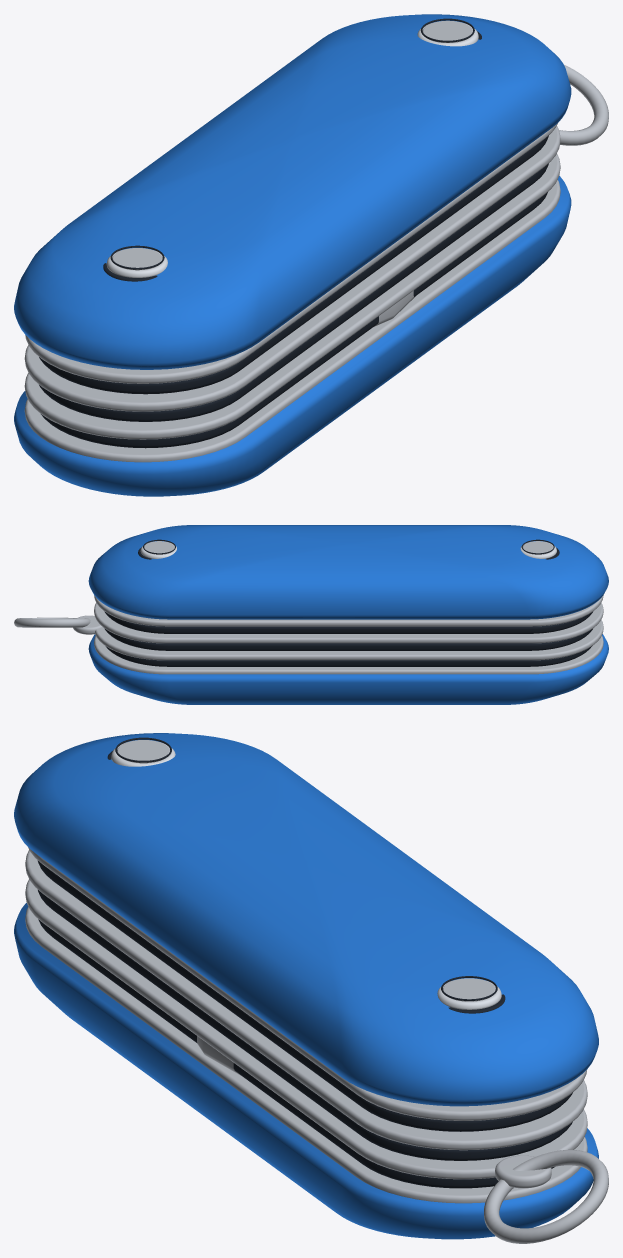
Rendered from product-swiss-army-knife.glb.
The picture shows the model from 3 angles, top to bottom: view 1: azimuth 30°, elevation 25°; view 2: azimuth 150°, elevation 25°; view 3: azimuth 270°, elevation 25°; orthographic projection. The views are drawn at different scales.
Parts seen in each view (by area): view 1: Sculpted front blue scale, Sculpted back blue scale, Steel liner.001, Steel liner.002, Steel liner, Steel liner.003, Tool channel.001, Tool channel.002, Tool channel, Split keyring, Satin pivot face, Satin pivot face.001; view 2: Sculpted front blue scale, Sculpted back blue scale, Steel liner.002, Steel liner.001, Steel liner, Steel liner.003, Tool channel.002, Tool channel.001, Tool channel, Split keyring, Satin pivot face, Satin pivot face.001 (+1 smaller); view 3: Sculpted front blue scale, Sculpted back blue scale, Steel liner.002, Steel liner.001, Steel liner, Steel liner.003, Tool channel.002, Tool channel.001, Split keyring, Tool channel, Keyring anchor, Satin pivot face (+1 smaller).
Part boxes in pixels (box(x1,y1,x2,y2)): Sculpted front blue scale: box(14, 14, 571, 369); Sculpted back blue scale: box(14, 176, 571, 496); Steel liner.001: box(24, 154, 560, 439); Steel liner.002: box(24, 126, 560, 411); Steel liner: box(24, 180, 560, 462); Steel liner.003: box(25, 123, 557, 383); Tool channel.001: box(39, 163, 548, 421); Tool channel.002: box(39, 135, 548, 394); Tool channel: box(41, 192, 547, 448); Split keyring: box(559, 65, 608, 145); Satin pivot face: box(112, 248, 162, 270); Satin pivot face.001: box(422, 20, 472, 42); Sculpted front blue scale: box(88, 525, 608, 619); Sculpted back blue scale: box(88, 634, 608, 704); Steel liner.002: box(94, 603, 603, 643); Steel liner.001: box(95, 620, 603, 660); Steel liner: box(94, 636, 603, 674); Steel liner.003: box(94, 595, 603, 626); Tool channel.002: box(104, 611, 592, 633); Tool channel.001: box(104, 628, 592, 650); Tool channel: box(105, 646, 591, 666); Split keyring: box(14, 617, 90, 627); Satin pivot face: box(523, 541, 553, 554); Satin pivot face.001: box(144, 541, 174, 554); Sculpted front blue scale: box(14, 733, 598, 1106); Sculpted back blue scale: box(14, 903, 598, 1239); Steel liner.002: box(25, 850, 587, 1150); Steel liner.001: box(25, 879, 587, 1179); Steel liner: box(25, 906, 587, 1203); Steel liner.003: box(28, 847, 587, 1120); Tool channel.002: box(37, 860, 572, 1131); Tool channel.001: box(38, 890, 572, 1160); Split keyring: box(484, 1149, 608, 1243); Tool channel: box(38, 919, 554, 1188); Keyring anchor: box(495, 1155, 551, 1188); Satin pivot face: box(117, 740, 169, 763).
Bounding box in the file's own units: 4.86 × 1.42 × 3.14.
